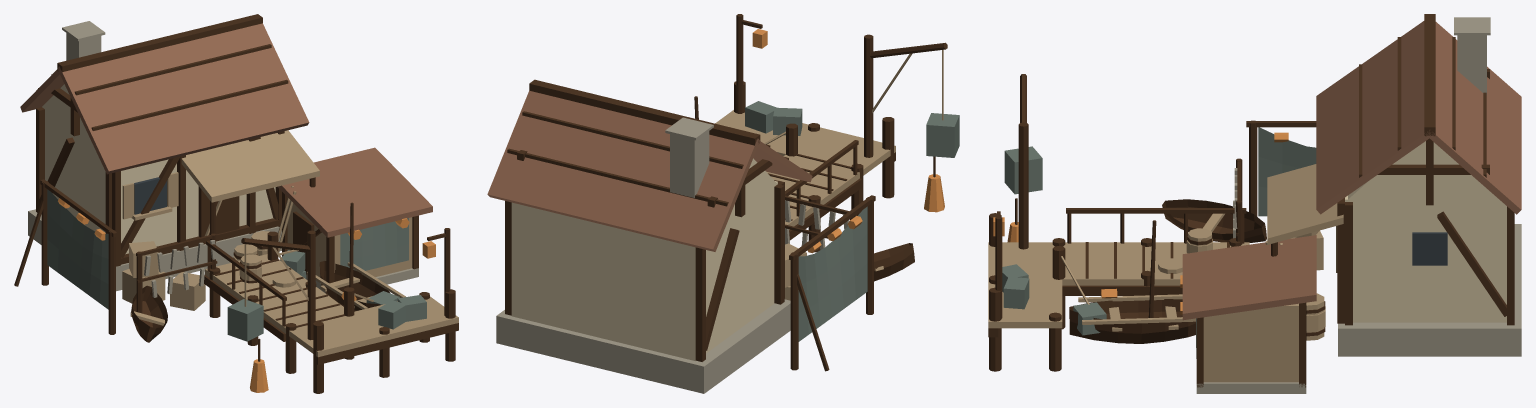
The model's file is era1-fisher-hut-D6i_HI-v.glb.
3 renders of one model, left to right at view 1: azimuth 30°, elevation 25°; view 2: azimuth 150°, elevation 25°; view 3: azimuth 270°, elevation 25°, orthographic. The views are drawn at different scales.
Visible parts, largest first — view 1: FH_RoofFront, FH_ShedRoof, FH_Walls, FH_Porch, FH_RackNet, FH_DockHead, FH_PierDeck, FH_ShedNet, FH_Ridge, FH_Footing, FH_ShedWalls, FH_HoistLoad (+43 smaller); view 2: FH_Walls, FH_RoofBack, FH_Footing, FH_RackNet, FH_DockHead, FH_Ridge, FH_Chimney, FH_PierDeck, FH_HoistLoad, FH_PostW2, FH_PostW, FH_HoistPost (+20 smaller); view 3: FH_Walls, FH_RoofFront, FH_RoofBack, FH_ShedRoof, FH_Footing, FH_ShedWalls, FH_PierDeck, FH_DockHead, FH_Gables, FH_Porch, FH_BoatHull, FH_RackNet (+30 smaller).
Boxes of the visible parts, x1,y1,x2,y2 form: FH_RoofFront: (57, 23, 309, 174); FH_ShedRoof: (277, 147, 432, 237); FH_Walls: (43, 106, 275, 254); FH_Porch: (181, 130, 319, 202); FH_RackNet: (47, 189, 108, 309); FH_DockHead: (289, 296, 458, 357); FH_PierDeck: (205, 254, 346, 333); FH_ShedNet: (340, 218, 408, 270); FH_Ridge: (57, 14, 262, 71); FH_Footing: (28, 209, 281, 291); FH_ShedWalls: (287, 197, 412, 277); FH_HoistLoad: (227, 299, 263, 341); FH_Walls: (511, 181, 777, 360); FH_RoofBack: (487, 90, 759, 251); FH_Footing: (496, 299, 790, 393); FH_RackNet: (798, 206, 867, 341); FH_DockHead: (715, 110, 895, 175); FH_Ridge: (529, 79, 760, 145); FH_Chimney: (670, 119, 709, 197); FH_PierDeck: (766, 154, 859, 229); FH_HoistLoad: (926, 113, 959, 157); FH_PostW2: (774, 184, 784, 304); FH_PostW: (695, 247, 705, 361); FH_HoistPost: (864, 34, 873, 157); FH_Walls: (1345, 195, 1506, 322); FH_RoofFront: (1316, 21, 1434, 214); FH_RoofBack: (1424, 22, 1521, 214); FH_ShedRoof: (1182, 235, 1316, 320); FH_Footing: (1338, 224, 1521, 356); FH_ShedWalls: (1203, 303, 1298, 382); FH_PierDeck: (1062, 242, 1249, 285); FH_DockHead: (988, 242, 1062, 328); FH_Gables: (1346, 141, 1500, 201); FH_Porch: (1267, 164, 1343, 244); FH_BoatHull: (1069, 299, 1195, 343); FH_RackNet: (1258, 127, 1316, 216).
Size of the model in its own units: 6.07 by 3.95 by 7.55.
